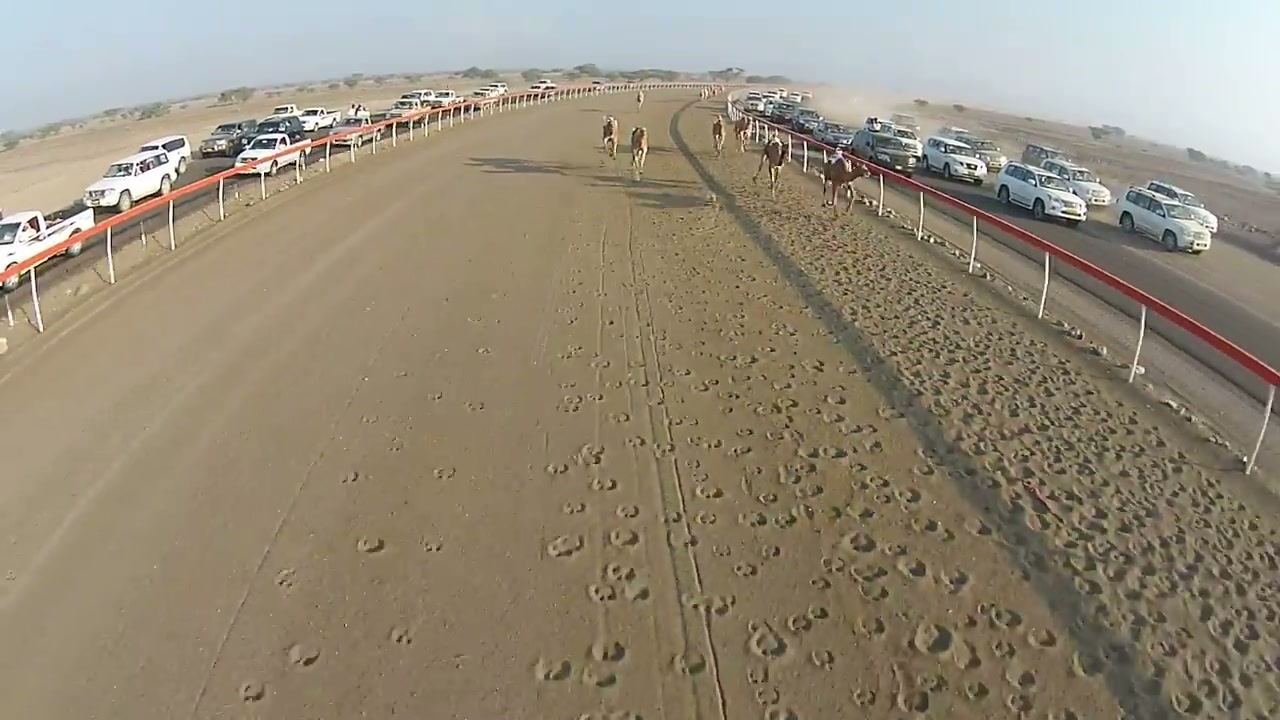animal_footprint: (643, 200, 1145, 716), (846, 603, 1065, 713), (938, 308, 1085, 428), (890, 662, 938, 714), (748, 621, 791, 659), (912, 623, 954, 654), (682, 593, 736, 616), (769, 504, 816, 529), (978, 603, 1022, 629), (1004, 660, 1038, 693), (947, 636, 980, 669), (911, 517, 954, 542), (856, 474, 893, 503), (777, 460, 818, 484), (1069, 650, 1106, 676), (589, 638, 626, 662), (671, 650, 706, 675), (1170, 691, 1205, 716), (534, 658, 572, 681), (581, 663, 617, 687), (765, 425, 804, 447), (840, 531, 877, 554), (896, 689, 930, 714), (546, 536, 584, 558), (936, 569, 969, 594), (834, 504, 879, 521), (286, 643, 319, 666), (854, 616, 888, 638), (601, 562, 637, 582), (896, 556, 927, 579), (607, 527, 640, 548), (666, 527, 699, 548), (575, 709, 643, 719), (804, 445, 849, 460), (622, 578, 650, 602), (1005, 692, 1033, 716), (754, 685, 782, 708), (574, 444, 604, 465), (238, 680, 266, 702), (587, 583, 617, 603), (1027, 628, 1057, 648), (990, 638, 1017, 660), (849, 687, 878, 707), (745, 662, 770, 685), (893, 487, 923, 506), (793, 482, 824, 500), (963, 681, 990, 701), (786, 614, 813, 634), (965, 517, 993, 536), (1073, 577, 1102, 595), (274, 568, 296, 591), (819, 556, 847, 574), (810, 649, 835, 669), (388, 626, 413, 646), (356, 536, 385, 553), (686, 436, 723, 449), (669, 416, 701, 431), (556, 396, 584, 413), (765, 705, 799, 719), (799, 358, 826, 374), (912, 462, 939, 478), (695, 484, 723, 499), (733, 561, 758, 577), (650, 442, 675, 458), (557, 345, 585, 359), (589, 477, 617, 491), (759, 543, 782, 560), (1046, 708, 1081, 719), (820, 410, 847, 424), (420, 537, 443, 553), (615, 504, 639, 519), (805, 605, 829, 620), (809, 575, 832, 590), (691, 379, 717, 392), (727, 444, 751, 458), (861, 439, 884, 453), (755, 492, 779, 505), (562, 501, 586, 514), (824, 393, 848, 406), (694, 511, 716, 524), (625, 435, 648, 447), (545, 463, 568, 475), (626, 376, 649, 388), (711, 544, 732, 557), (433, 467, 455, 479), (589, 356, 611, 368), (341, 470, 361, 483), (387, 437, 404, 452), (735, 427, 755, 438), (464, 401, 484, 411), (603, 380, 624, 388), (428, 392, 443, 401), (394, 370, 410, 377), (476, 347, 491, 354), (628, 440, 634, 446)
